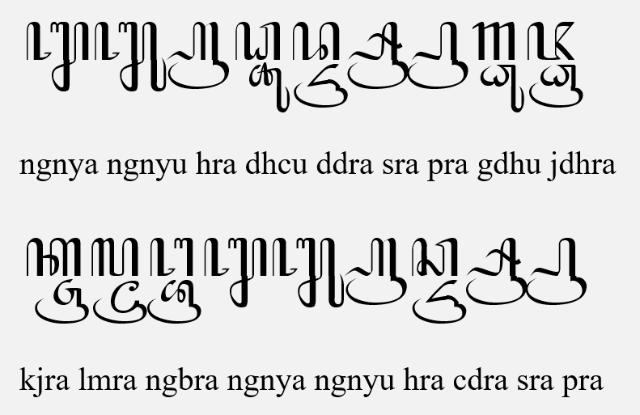_br: (147, 280, 201, 324)
_cu: (248, 62, 290, 112)
_dhr: (528, 64, 584, 109)
_dhu: (480, 63, 524, 113)
_dr: (294, 62, 348, 108), (413, 280, 467, 324)
_hr: (344, 236, 408, 306), (166, 21, 230, 90)
_jr: (35, 278, 89, 324)
_mr: (93, 280, 147, 324)
_pr: (408, 20, 468, 90), (526, 236, 586, 306)
_sr: (466, 236, 528, 306), (347, 21, 409, 90)
c: (412, 237, 458, 277)
d: (291, 20, 339, 60)
dh: (233, 21, 280, 61)
g: (472, 21, 516, 61)
j: (526, 22, 576, 60)
k: (26, 237, 82, 278)
l: (91, 237, 139, 277)
nga: (150, 237, 194, 277)
ngnya: (25, 20, 89, 92), (204, 237, 266, 309)
ngnyu: (94, 20, 168, 92), (272, 238, 344, 308)
